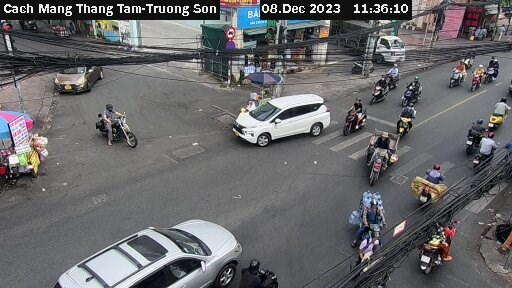motorbike: (49, 216, 244, 288), (231, 93, 334, 148), (345, 198, 403, 247), (51, 53, 108, 99), (95, 108, 148, 153), (412, 160, 453, 208), (417, 227, 459, 272), (340, 100, 377, 140), (245, 255, 281, 288), (385, 106, 421, 138), (479, 94, 509, 130), (470, 135, 499, 168), (378, 61, 412, 88), (401, 80, 433, 107), (365, 76, 396, 103), (438, 62, 465, 88), (457, 120, 482, 148), (480, 56, 503, 81), (468, 65, 487, 93)
truck: (345, 20, 408, 65)
